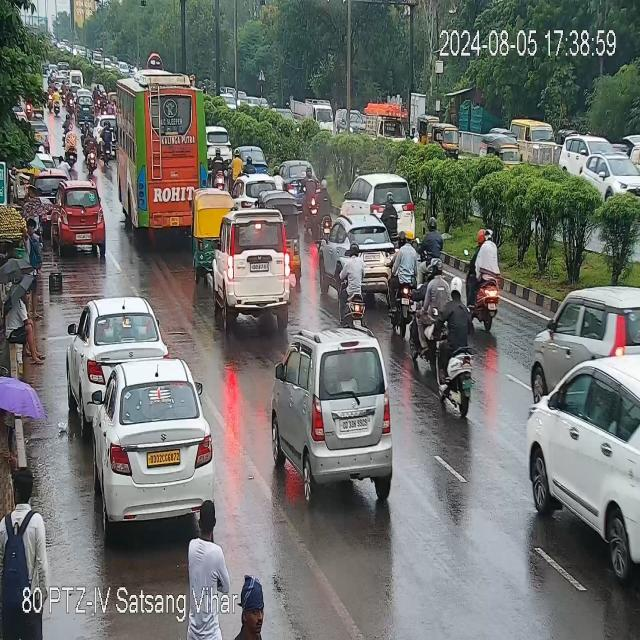2-wheelers: (415, 262, 470, 426), (414, 262, 455, 358), (468, 230, 508, 328), (390, 234, 422, 325), (337, 248, 369, 322), (215, 144, 244, 186), (303, 174, 326, 217), (60, 110, 76, 164), (46, 84, 74, 114), (100, 121, 114, 163), (86, 122, 98, 170)
auto: (193, 198, 230, 266), (284, 204, 306, 284), (480, 136, 524, 170), (427, 124, 462, 160)
bus: (106, 68, 216, 230)
car: (528, 353, 636, 588), (86, 362, 215, 524), (277, 335, 392, 487), (535, 283, 638, 381), (70, 298, 166, 393), (218, 207, 286, 319), (324, 220, 399, 286), (562, 136, 638, 196), (340, 175, 417, 233), (52, 186, 106, 249), (232, 172, 290, 202), (208, 120, 234, 173), (285, 154, 302, 204), (75, 91, 94, 123)
pedestrian: (182, 510, 228, 640), (3, 277, 44, 370), (222, 604, 276, 640), (236, 571, 264, 640), (23, 217, 44, 276)
truck: (367, 106, 409, 144)
